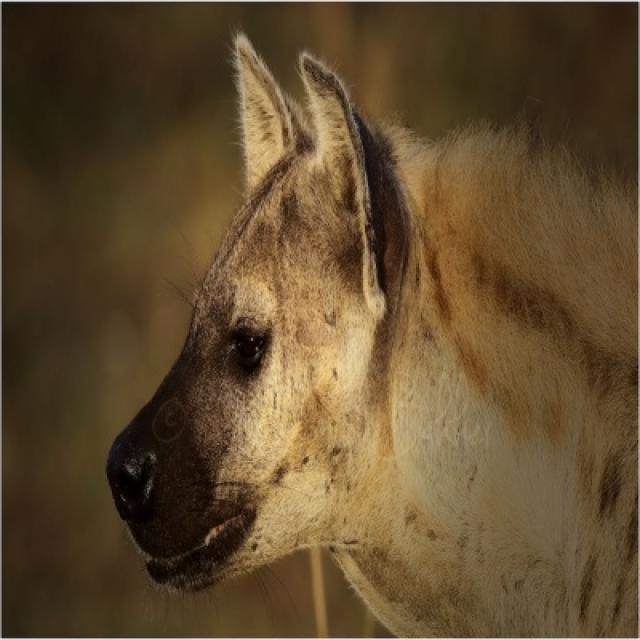hyena: (104, 32, 638, 638)
